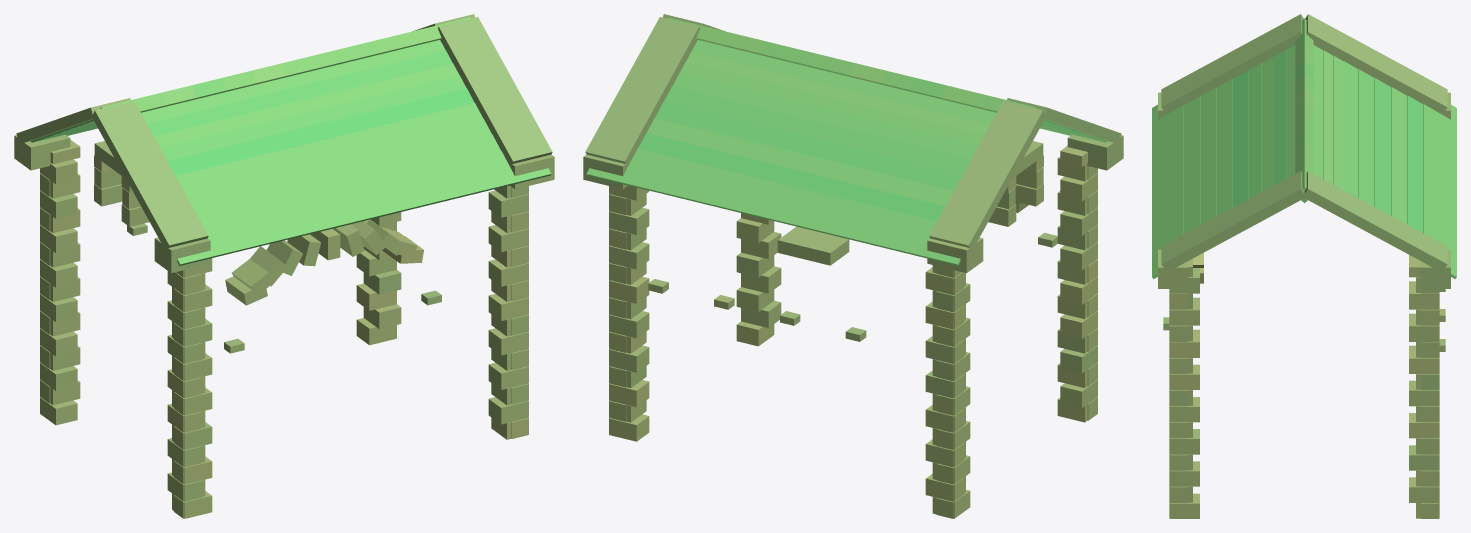
The model's file is SM_Bld_005_Stone.glb.
The picture shows the model from 3 angles, left to right: view 1: azimuth 30°, elevation 25°; view 2: azimuth 150°, elevation 25°; view 3: azimuth 270°, elevation 25°; orthographic projection. The views are drawn at different scales.
Visible parts, largest first — view 1: SM_Bld_005_Stone; view 2: SM_Bld_005_Stone; view 3: SM_Bld_005_Stone.
Part boxes in pixels (<box>): SM_Bld_005_Stone: <box>14,14,554,518</box>; SM_Bld_005_Stone: <box>583,14,1123,518</box>; SM_Bld_005_Stone: <box>1152,14,1456,518</box>.
Bounding box in the file's own units: 6.99 × 6.31 × 5.14.
